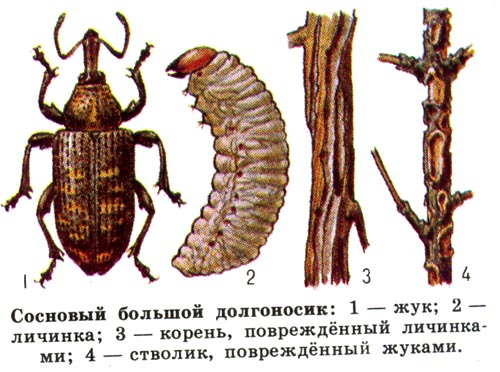dolgonosik: (18, 13, 180, 289)
